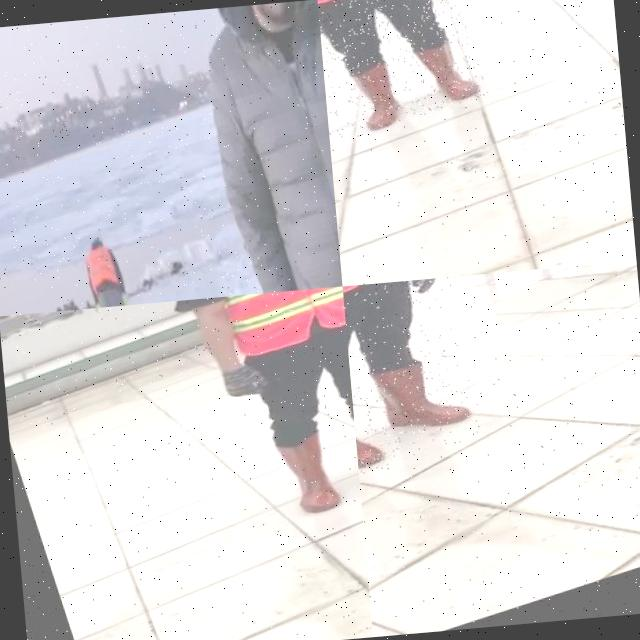boots: (374, 344, 471, 441), (272, 430, 345, 520), (409, 31, 486, 110), (346, 58, 412, 132), (350, 380, 390, 481)
vest: (202, 286, 348, 360), (77, 238, 121, 300)
